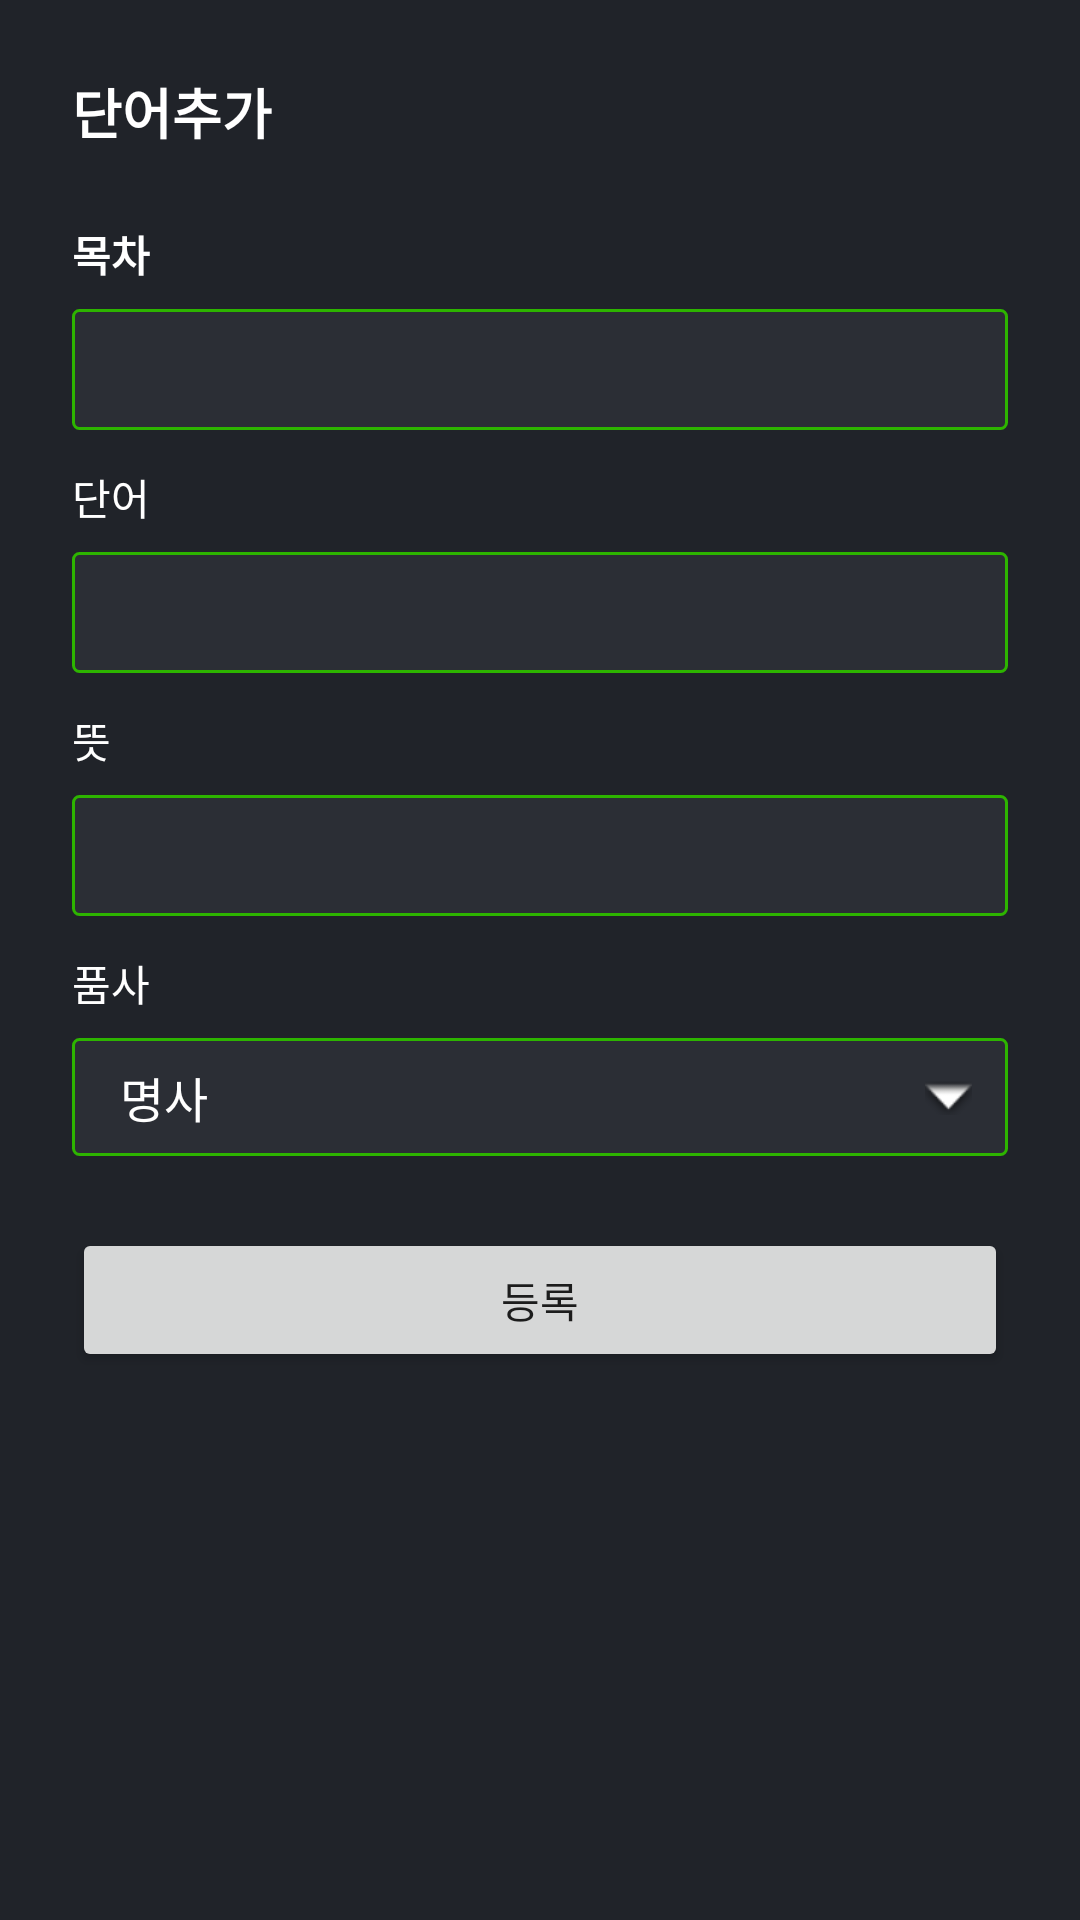

Icon bounding boxes for this 1080 x 1920 phone screenshot, format (x1, y1, x2, y2):
arrow down float: (926, 1084, 971, 1109)
